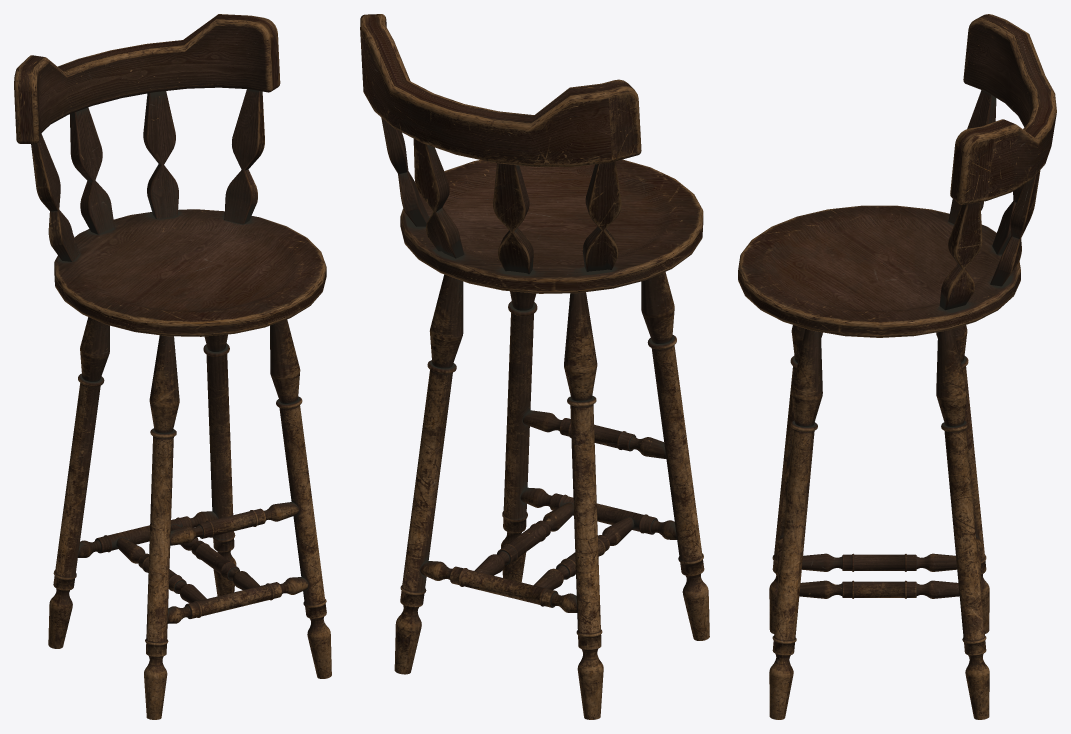
Rendered from wooden_chair.glb.
3 views of the same model, side by side, from view 1: azimuth 30°, elevation 25°; view 2: azimuth 150°, elevation 25°; view 3: azimuth 270°, elevation 25° (orthographic). The views are drawn at different scales.
Parts seen in each view (by area): view 1: wooden_chair; view 2: wooden_chair; view 3: wooden_chair.
Part boxes in pixels (left/top/right/bottom): wooden_chair: left=14, top=14, right=331, bottom=719; wooden_chair: left=360, top=14, right=709, bottom=719; wooden_chair: left=738, top=14, right=1056, bottom=719.
Size of the model in its own units: 0.4926 by 1.07 by 0.5125.
1 material, 1 textured.
